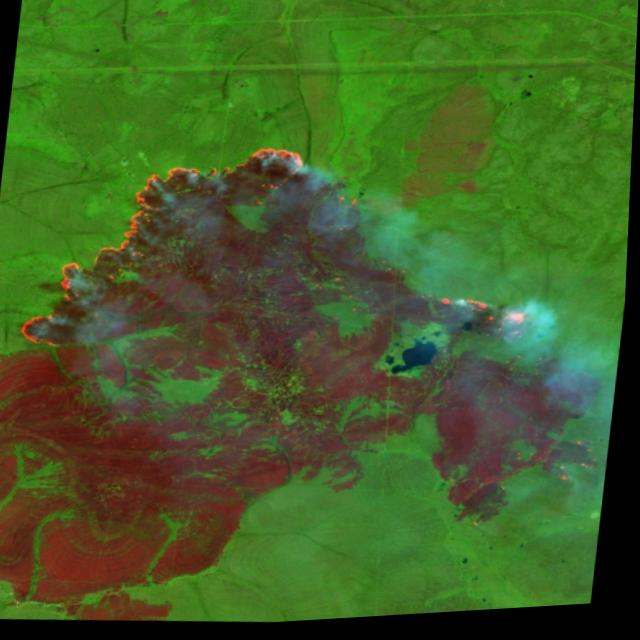fire: (7, 125, 317, 367), (424, 283, 553, 350)
